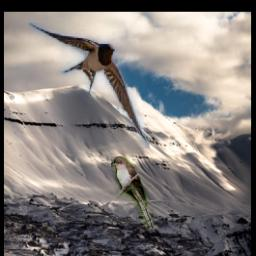Cuckoo: (112, 156, 156, 229)
Swallow: (28, 23, 150, 149)
